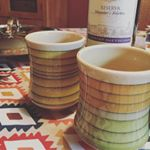cups: (73, 43, 149, 150), (22, 29, 87, 120)
